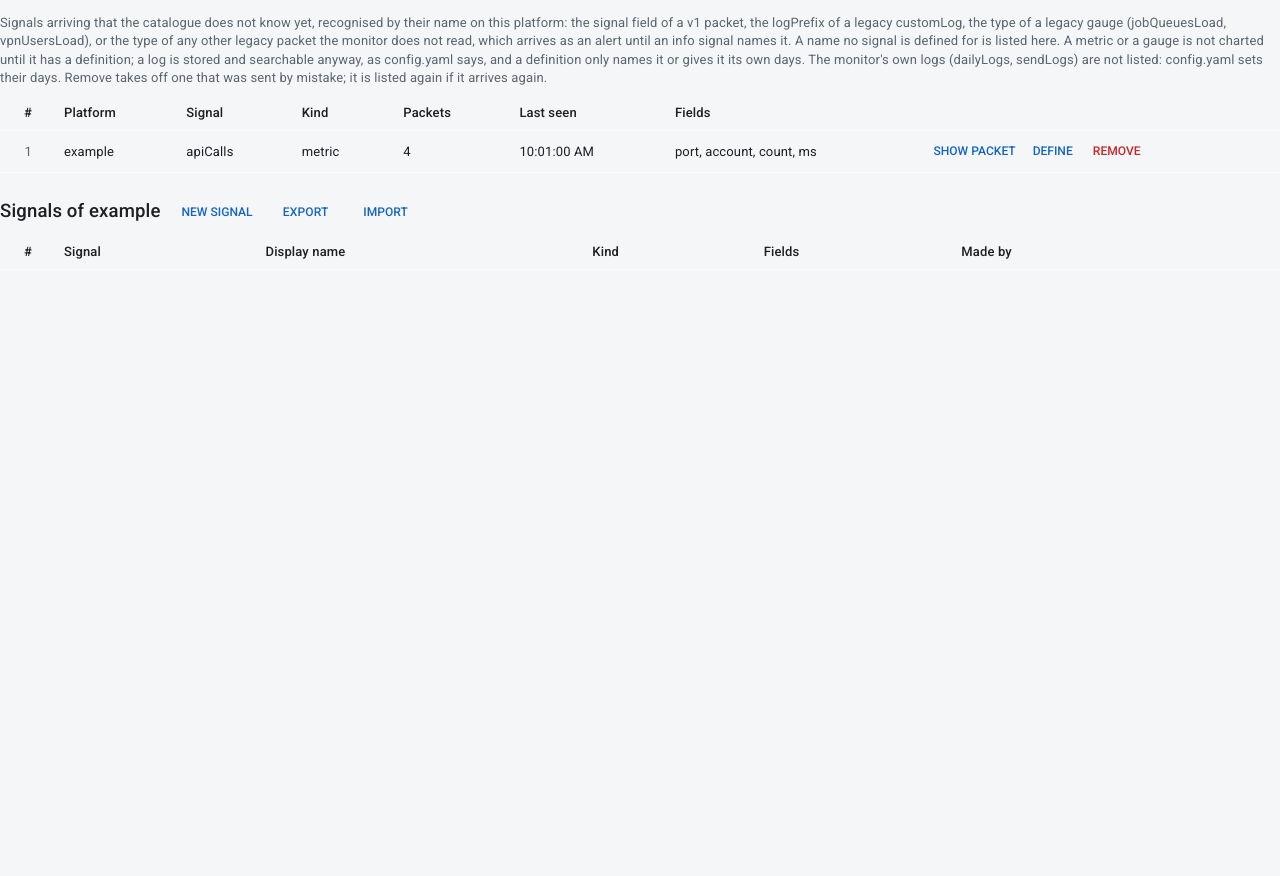
Scenario: SignalsPage › shows the server refusal instead of closing
This screenshot has width=1280, height=876.
Click the button "Define": (1053, 152) [1021,137,1085,166]
(page scrolled)
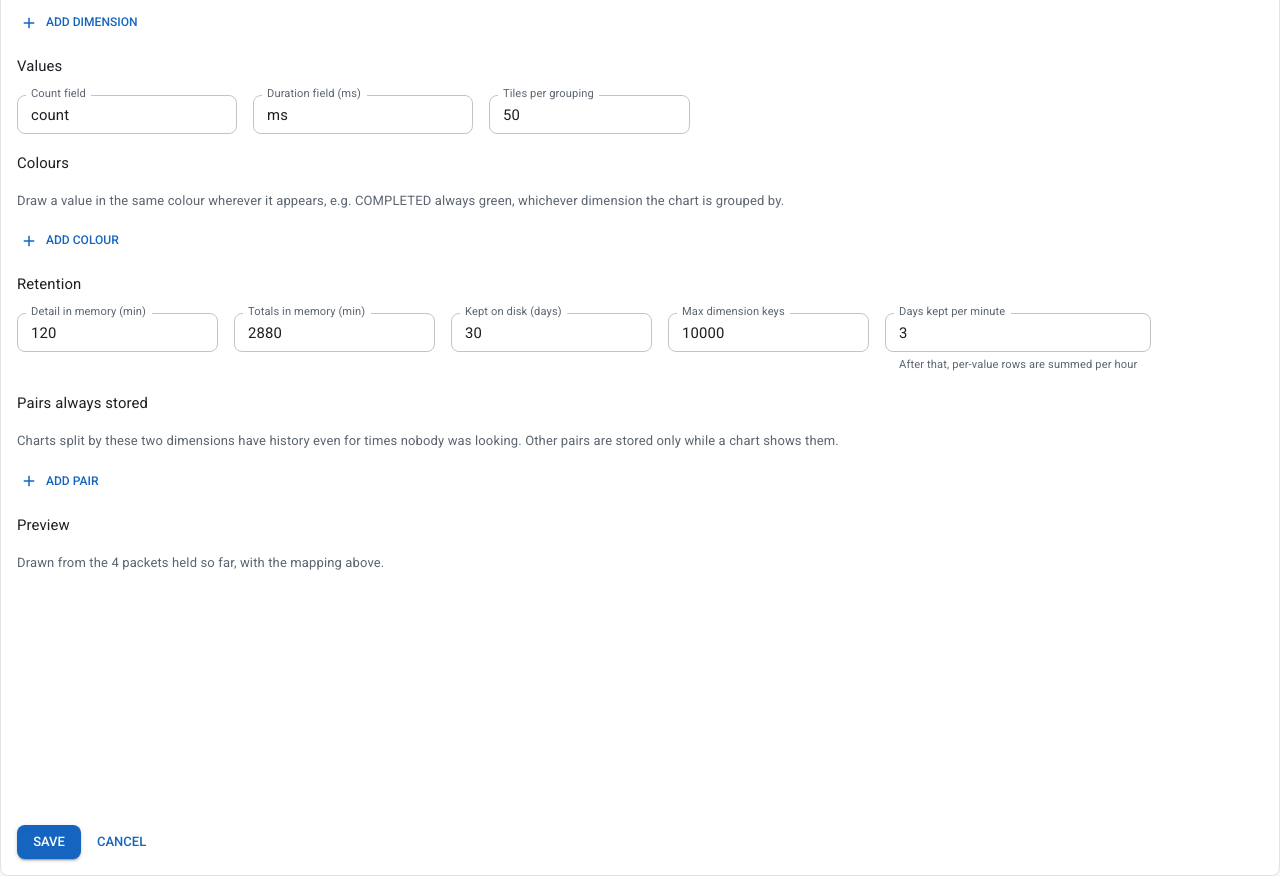
Click the button "Save": (49, 842) [17,824,81,859]
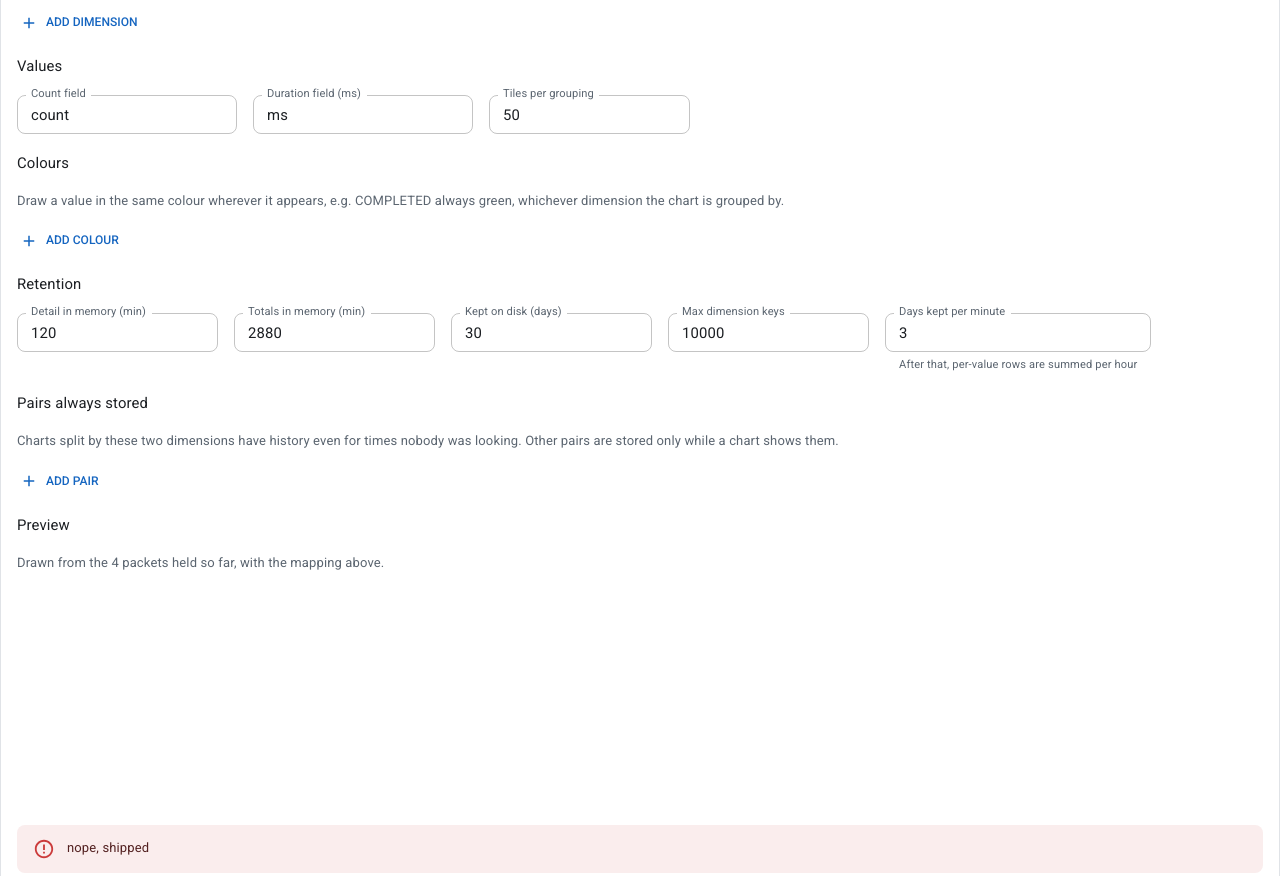
Result: the text "nope, shipped" is shown at [67,840,149,854]
